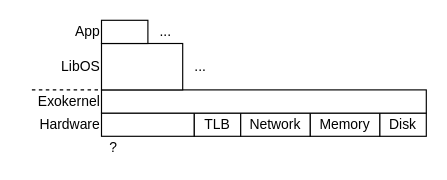
The diagram is 447 pixels wide and 180 high, and some of its shapes have lost their labels. Each missing label, with the box of its shape:
Frame buffer: (100, 112, 194, 136)
Secure bindings: (100, 89, 426, 113)
